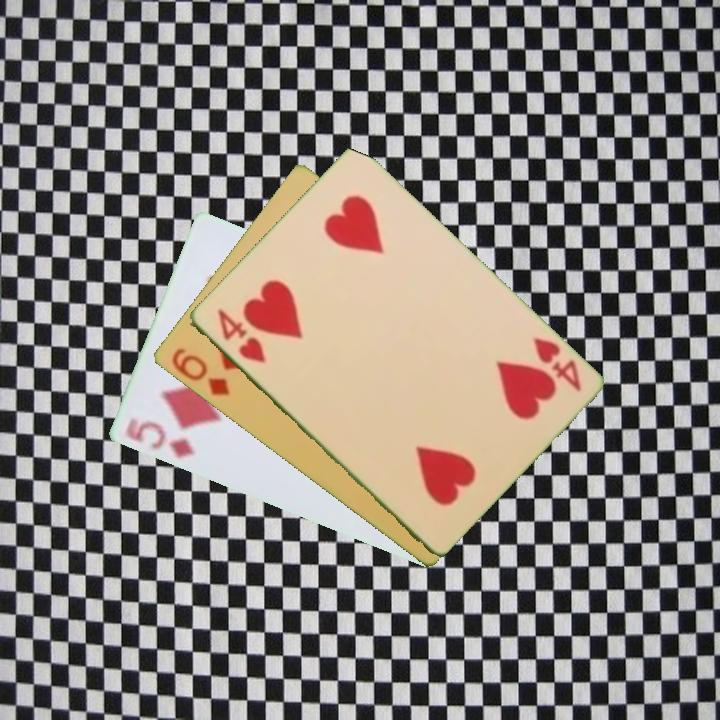4h: (213, 305, 268, 367), (529, 334, 584, 395)
5d: (121, 414, 198, 461)
6d: (167, 344, 232, 399)
